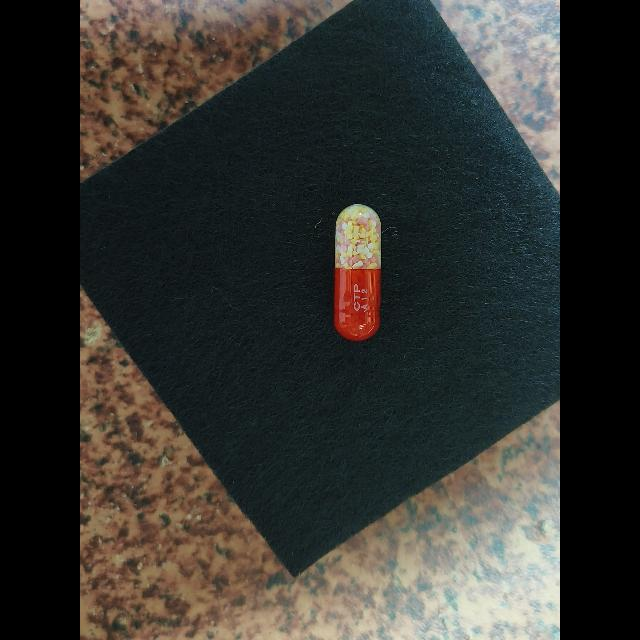Intact Capsule: (334, 204, 381, 341)
